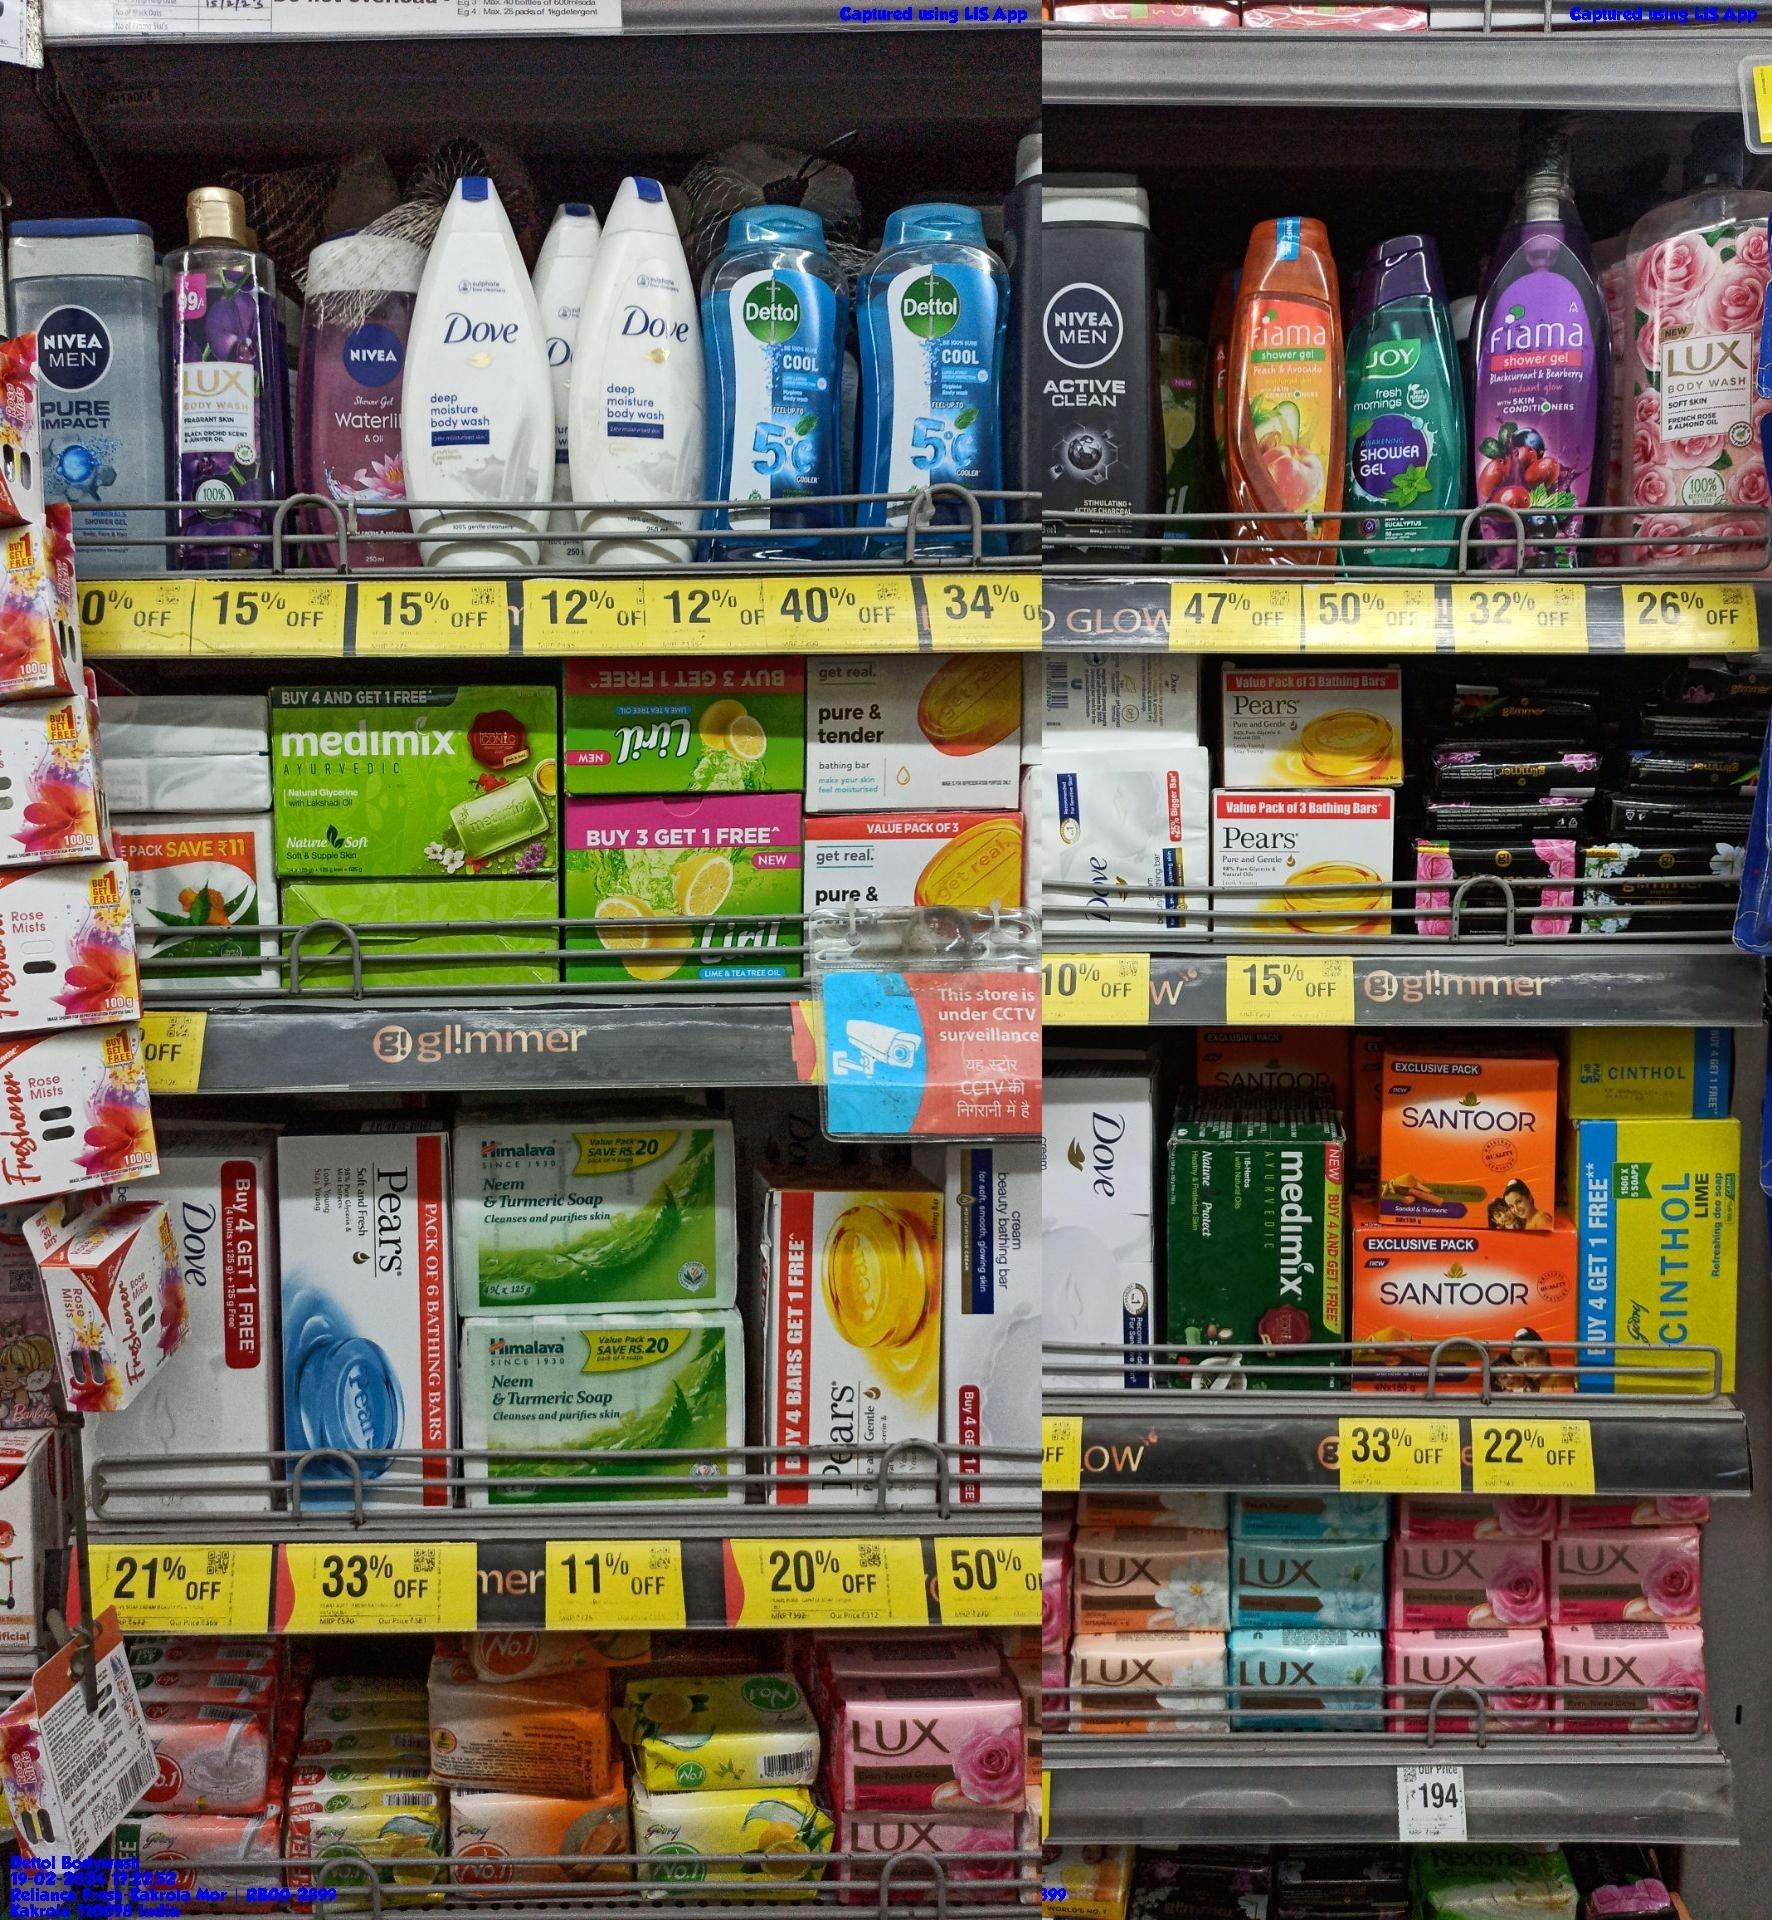Dettol_Bodywash_Cool: (864, 199, 1015, 559), (722, 191, 851, 562)
Dove_Deep_Moisture_Body_Wash_250ML: (572, 169, 712, 572), (433, 166, 548, 574)
Fiama_Shower_Gel_Peach_and_Avocado_250ML: (1224, 214, 1344, 569)
Joy_Shower_Gel_Mint_and_Eucalyptus_250ML: (1351, 226, 1466, 570)
Lux_Black_Orchid_Scent_and_Juniper_Oil_Body_Wash_245ML: (160, 181, 298, 570)
Nivea_Shower_Gel_Waterlily_and_Oil_250ML: (308, 241, 416, 569)
